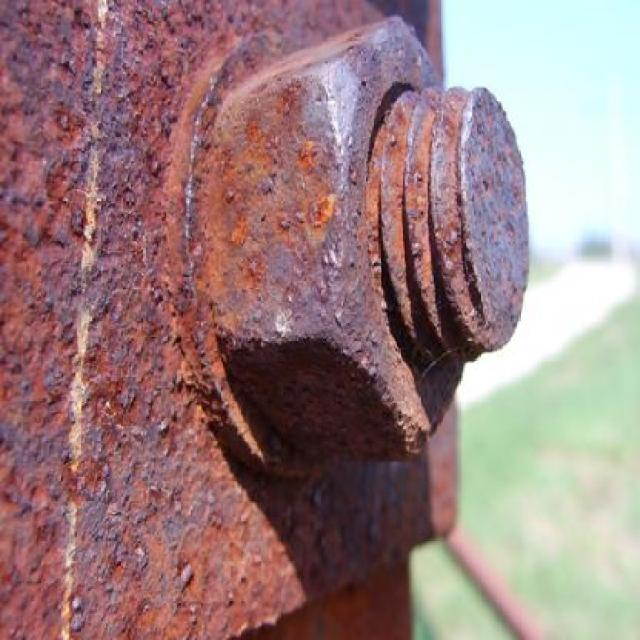corrosion: (0, 1, 532, 640)
